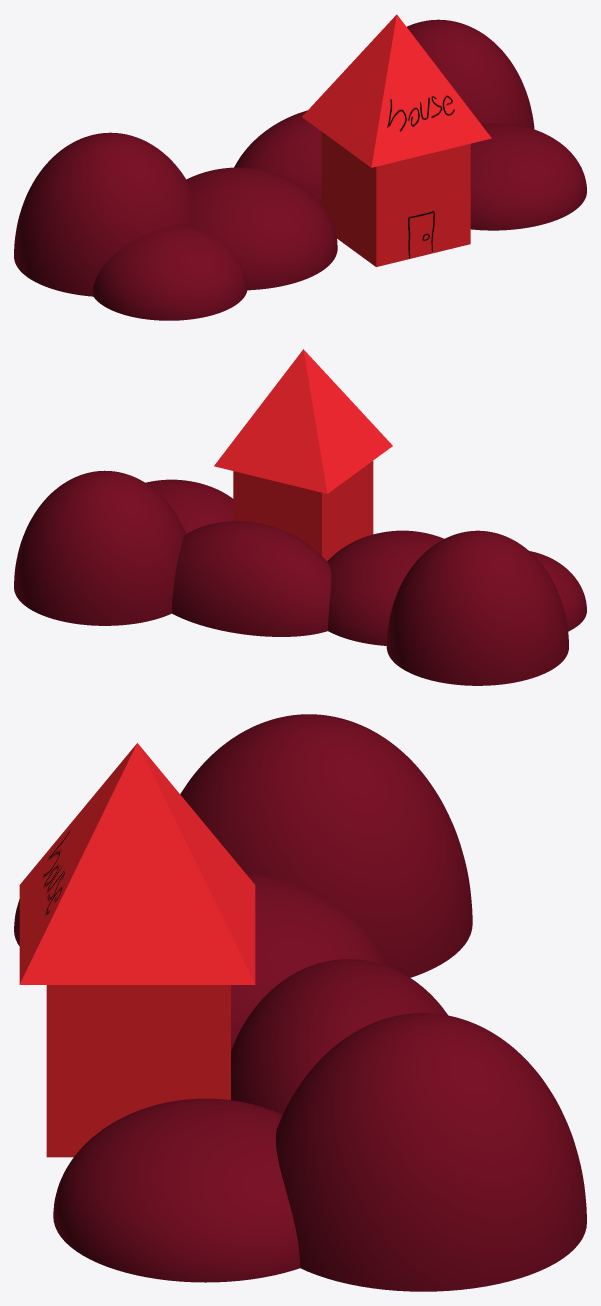
3 renders of one model, top to bottom at view 1: azimuth 30°, elevation 25°; view 2: azimuth 150°, elevation 25°; view 3: azimuth 270°, elevation 25°, orthographic. The views are drawn at different scales.
Parts seen in each view (by area): view 1: mesh_id31, mesh_id38, mesh_id36, mesh_id29, mesh_id27, mesh_id42, mesh_id49, mesh_id40; view 2: mesh_id31, mesh_id49, mesh_id40, mesh_id38, mesh_id36, mesh_id29, mesh_id42, mesh_id27; view 3: mesh_id49, mesh_id31, mesh_id38, mesh_id42, mesh_id36, mesh_id40, mesh_id29.
Part boxes in pixels (x1,y1,x2,y2): mesh_id31: (14,132,193,296); mesh_id38: (302,14,491,167); mesh_id36: (321,132,470,266); mesh_id29: (186,167,337,290); mesh_id27: (92,224,247,320); mesh_id42: (470,123,586,230); mesh_id49: (407,19,534,129); mesh_id40: (234,110,321,203); mesh_id31: (386,530,568,685); mesh_id49: (14,470,185,625); mesh_id40: (172,521,331,636); mesh_id38: (214,349,392,493); mesh_id36: (233,461,373,561); mesh_id29: (327,530,444,645); mesh_id42: (145,479,233,533); mesh_id27: (529,551,586,631); mesh_id49: (275,1013,586,1291); mesh_id31: (180,714,472,977); mesh_id38: (19,743,255,984); mesh_id42: (53,1098,300,1282); mesh_id36: (46,985,230,1157); mesh_id40: (231,959,448,1114); mesh_id29: (231,873,387,1050).
Size of the model in its own units: 2.16 by 0.8648 by 1.2.
Materials: 7 (7 with a texture image).
